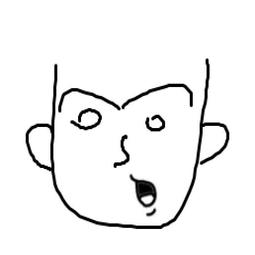ear: (192, 116, 236, 176), (19, 115, 57, 173)
empty_eye: (70, 108, 104, 134), (140, 109, 170, 137)
frowning_eyebrow: (120, 82, 195, 111), (60, 81, 119, 112)
nose: (108, 132, 133, 166)
open_mouth: (128, 173, 171, 217)
